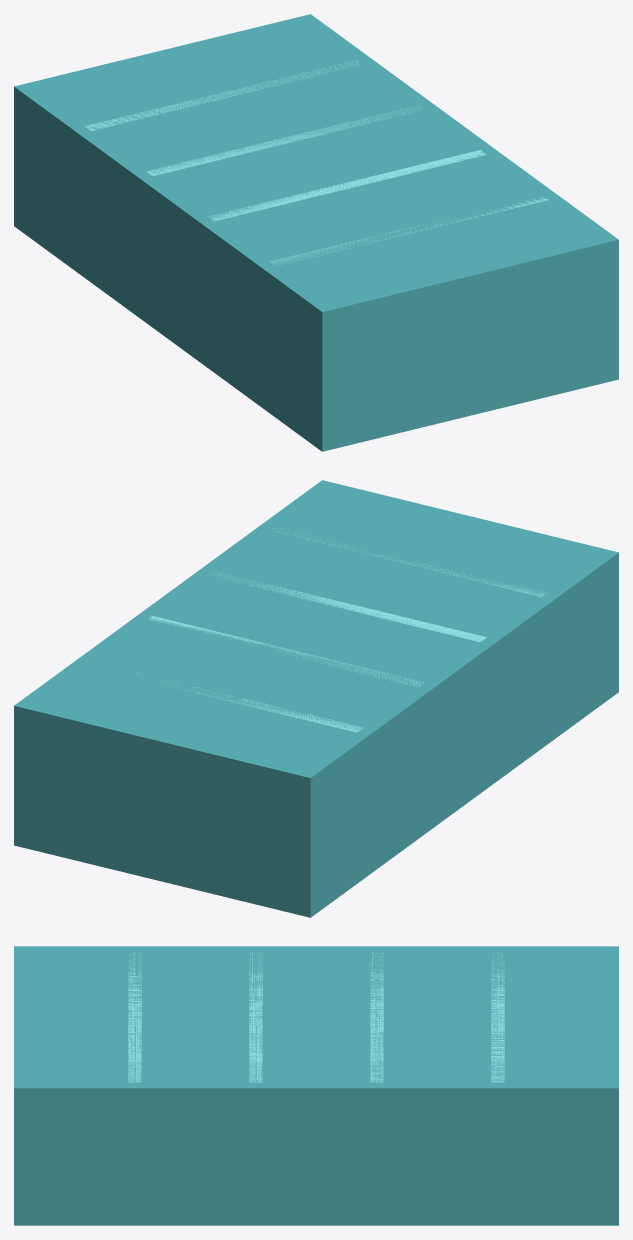
File: utility-shelving.glb
The picture shows the model from 3 angles, top to bottom: view 1: azimuth 30°, elevation 25°; view 2: azimuth 150°, elevation 25°; view 3: azimuth 270°, elevation 25°; orthographic projection.
Visible parts, largest first — view 1: back, left, top, right, shelf3, bottom, shelf2, shelf1, shelf4; view 2: back, left, bottom, right, shelf3, shelf2, shelf1, top; view 3: back, right, bottom, top, shelf4, shelf3, shelf2, shelf1, left.
Boxes of the visible parts, box(x1,y1,x2,y2) form: back: box(14, 14, 618, 324); left: box(14, 84, 334, 451); top: box(315, 235, 618, 451); right: box(301, 14, 618, 379); shelf3: box(208, 150, 485, 221); bottom: box(14, 16, 312, 230); shelf2: box(146, 105, 422, 176); shelf1: box(84, 60, 359, 130); shelf4: box(270, 196, 548, 266); back: box(14, 480, 618, 790); left: box(298, 550, 618, 917); bottom: box(14, 701, 317, 917); right: box(14, 480, 333, 847); shelf3: box(209, 571, 486, 641); shelf2: box(149, 616, 424, 687); shelf1: box(127, 670, 363, 732); top: box(317, 482, 618, 691); back: box(14, 946, 618, 1100); right: box(14, 1082, 618, 1225); bottom: box(605, 946, 618, 1225); top: box(14, 946, 27, 1225); shelf4: box(128, 952, 141, 1082); shelf3: box(249, 952, 262, 1082); shelf2: box(370, 952, 383, 1082); shelf1: box(491, 952, 504, 1082); left: box(14, 946, 618, 951).
Size of the model in its own units: 1 by 0.45 by 1.8.
